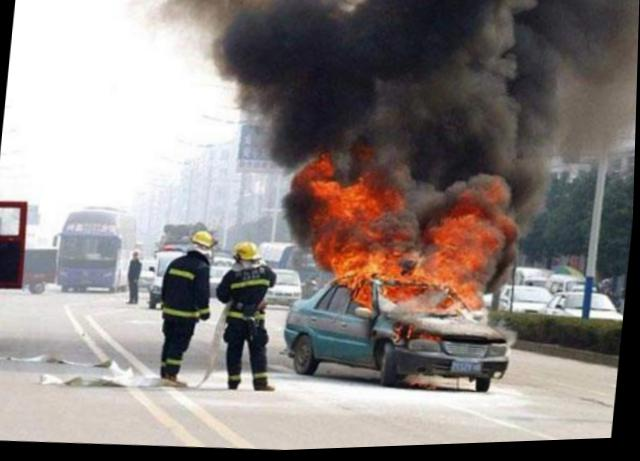fire: (280, 153, 524, 354)
